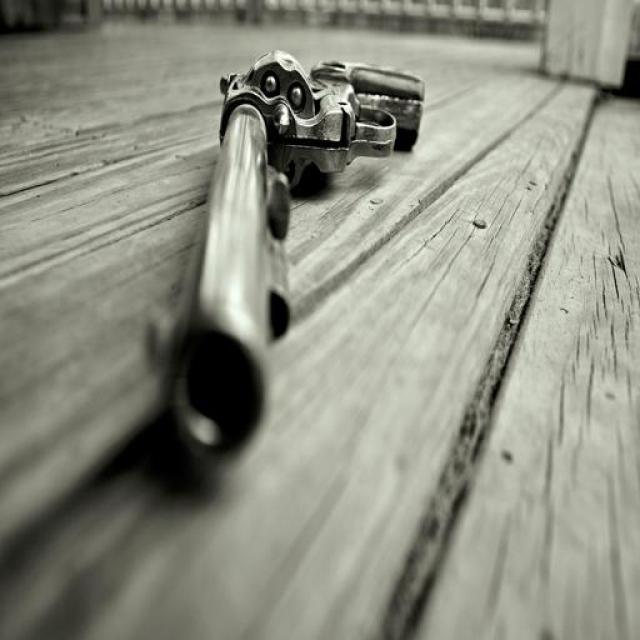pistol: (154, 49, 426, 469)
